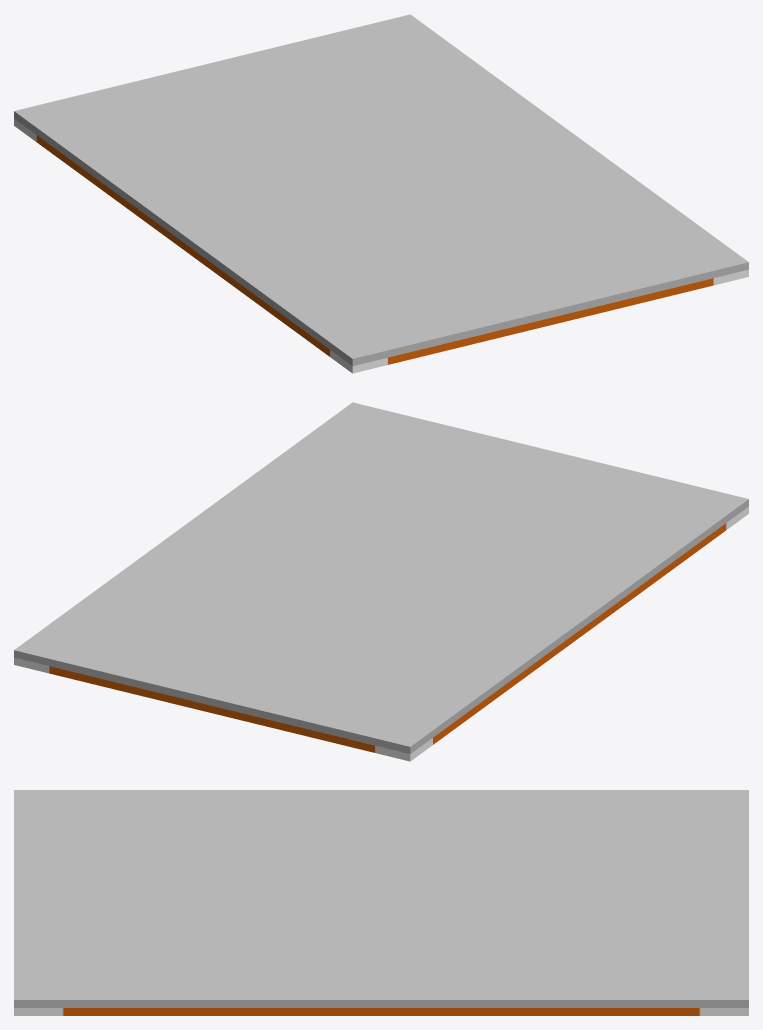
Rendered from SparrowCard.fbx.
The picture shows the model from 3 angles, top to bottom: view 1: azimuth 30°, elevation 25°; view 2: azimuth 150°, elevation 25°; view 3: azimuth 270°, elevation 25°; orthographic projection. The views are drawn at different scales.
Visible parts, largest first — view 1: Front, Back; view 2: Front, Back; view 3: Front, Back.
Part boxes in pixels (x1,y1,x2,y2): Front: [14, 14, 748, 366]; Back: [14, 118, 748, 373]; Front: [14, 402, 748, 754]; Back: [14, 506, 748, 761]; Front: [14, 790, 748, 1007]; Back: [14, 1008, 748, 1015].
Size of the model in its own units: 4.06 by 0.1436 by 6.
